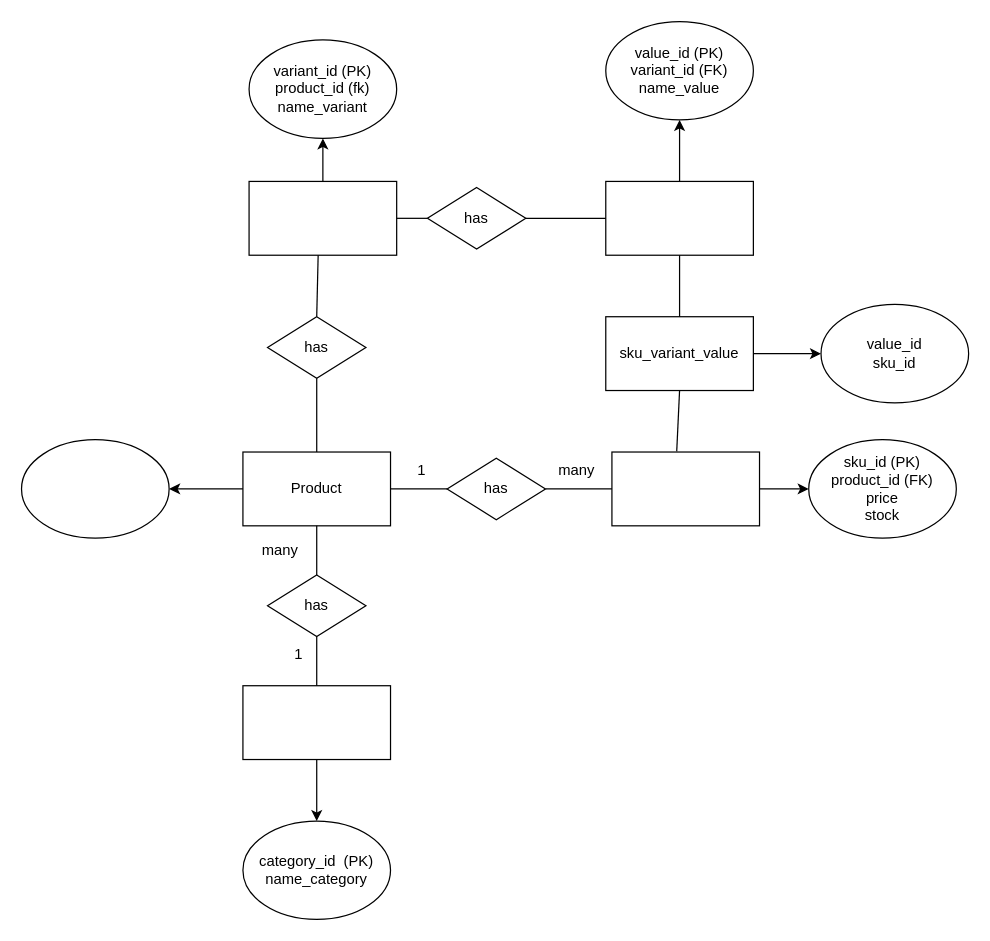
Some shapes in this 990 by 941 pixel diagram are drawn without their labels. The centre of each missing label's shape, as x and y in pixels:
"Category" belongs at (x=316, y=722).
"product_id (PK) category_id (FK) name_product desc" belongs at (x=94, y=488).
"product_variant" belongs at (x=322, y=217).
"sku" belongs at (x=685, y=488).
"variant_value" belongs at (x=679, y=217).
